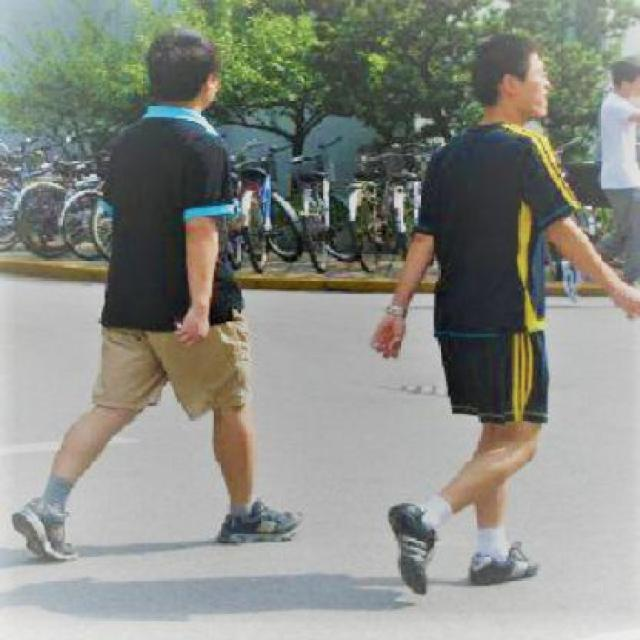Person: (13, 21, 302, 558), (378, 31, 634, 598)
